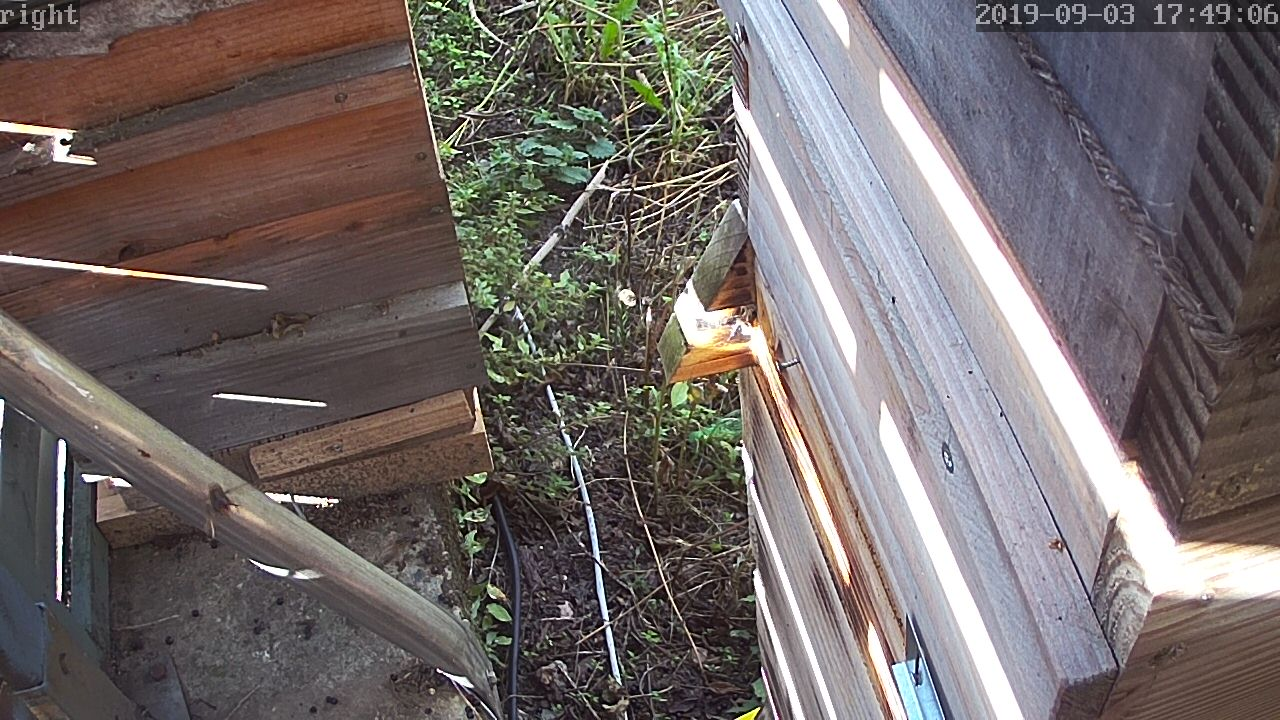hornet: (200, 478, 240, 525)
